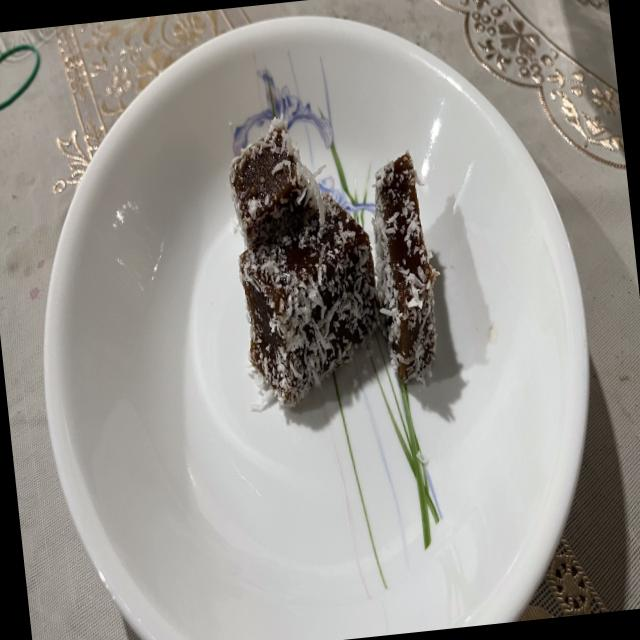kaswi: (239, 190, 382, 414), (373, 152, 438, 383), (229, 119, 320, 250)
